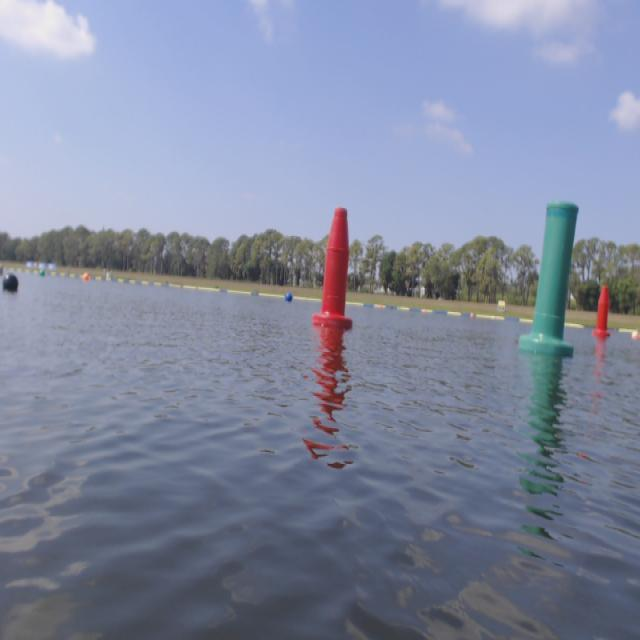Black_Buoy: (0, 266, 21, 302)
Green_Buoy: (543, 205, 565, 363)
Red_Buoy: (326, 210, 349, 339), (595, 289, 611, 339)
